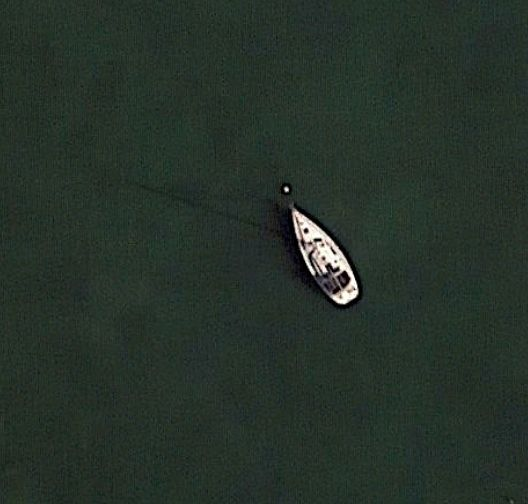boat: (282, 185, 361, 309)
